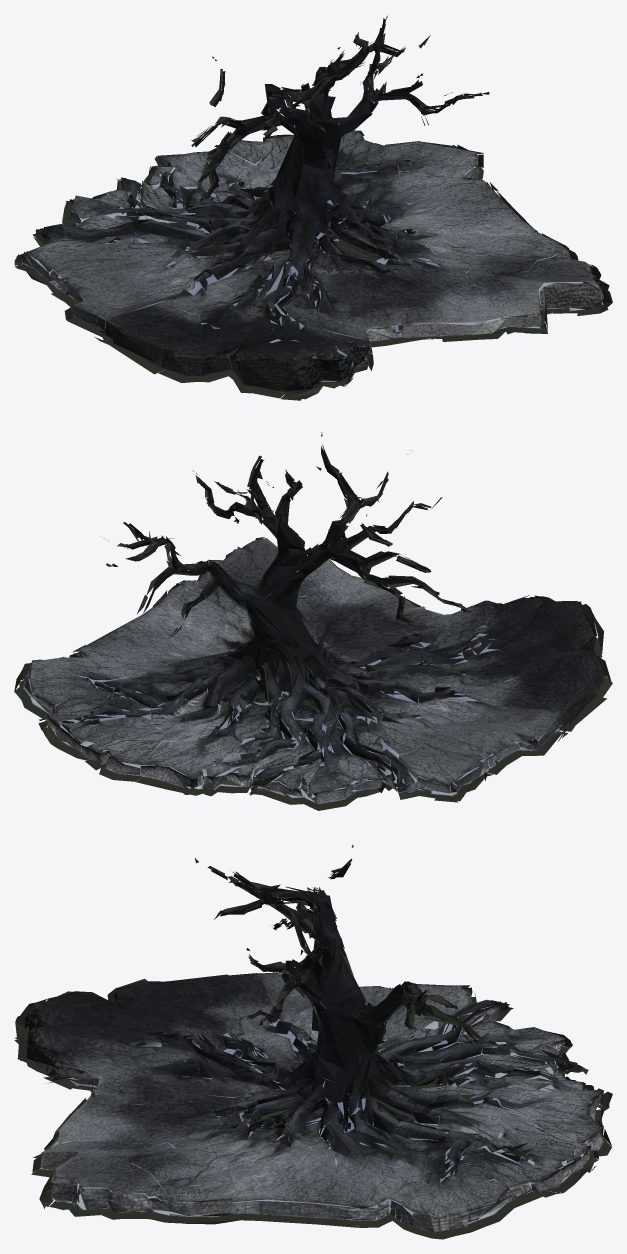
Rendered from df_v2_twisted_root_blocker_b_a.glb.
3 renders of one model, top to bottom at view 1: azimuth 30°, elevation 25°; view 2: azimuth 150°, elevation 25°; view 3: azimuth 270°, elevation 25°, orthographic. The views are drawn at different scales.
Parts seen in each view (by area): view 1: twisted_root_blocker_b_mesh_01, twisted_root_blocker_b_mesh_01_ink_outline; view 2: twisted_root_blocker_b_mesh_01, twisted_root_blocker_b_mesh_01_ink_outline; view 3: twisted_root_blocker_b_mesh_01, twisted_root_blocker_b_mesh_01_ink_outline.
Boxes of the visible parts, x1=… form: twisted_root_blocker_b_mesh_01: x1=23, y1=18, x2=603, y2=393; twisted_root_blocker_b_mesh_01_ink_outline: x1=14, y1=15, x2=612, y2=400; twisted_root_blocker_b_mesh_01: x1=23, y1=434, x2=603, y2=804; twisted_root_blocker_b_mesh_01_ink_outline: x1=14, y1=432, x2=612, y2=810; twisted_root_blocker_b_mesh_01: x1=24, y1=844, x2=603, y2=1232; twisted_root_blocker_b_mesh_01_ink_outline: x1=14, y1=859, x2=612, y2=1239.
Size of the model in its own units: 1.33 by 0.642 by 1.34.
Materials: 2 (1 with a texture image).
